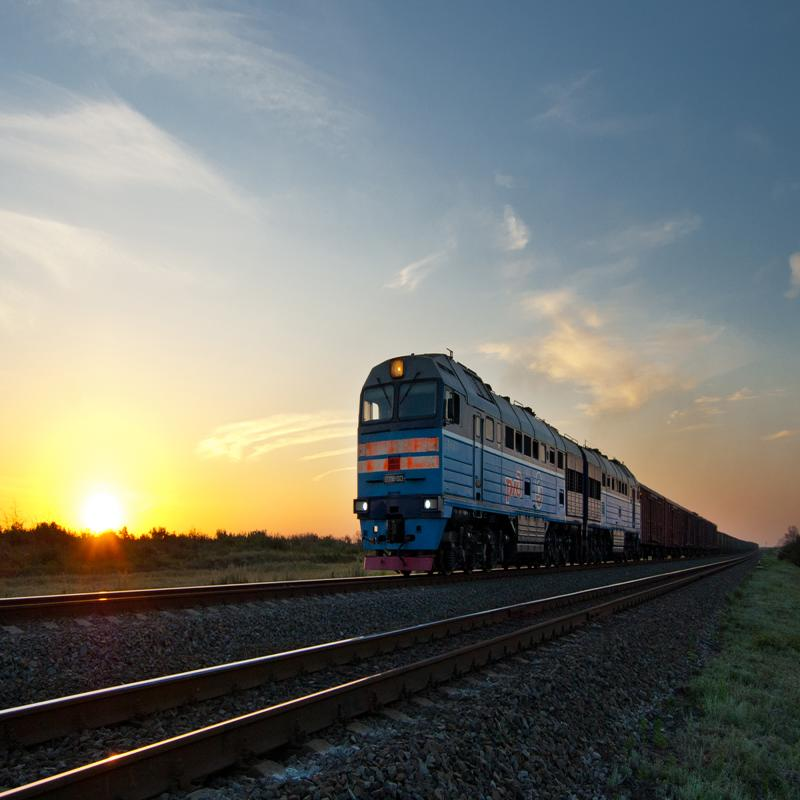train: (352, 336, 648, 604), (646, 499, 722, 563)
